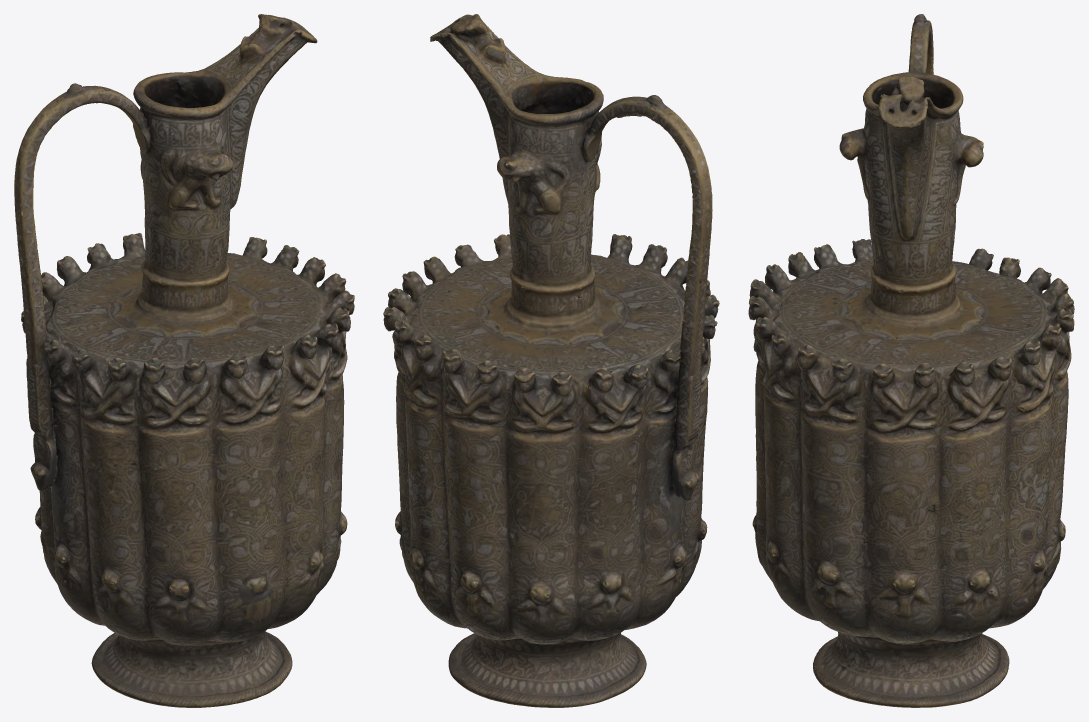
Rendered from preview.glb.
3 renders of one model, left to right at view 1: azimuth 30°, elevation 25°; view 2: azimuth 150°, elevation 25°; view 3: azimuth 270°, elevation 25°, orthographic.
Parts seen in each view (by area): view 1: ADVIMG_44_15_Ewer_MASTER_5M_n3d; view 2: ADVIMG_44_15_Ewer_MASTER_5M_n3d; view 3: ADVIMG_44_15_Ewer_MASTER_5M_n3d.
Boxes of the visible parts, left/top/right/bottom form: ADVIMG_44_15_Ewer_MASTER_5M_n3d: left=14, top=14, right=354, bottom=707; ADVIMG_44_15_Ewer_MASTER_5M_n3d: left=383, top=14, right=719, bottom=707; ADVIMG_44_15_Ewer_MASTER_5M_n3d: left=748, top=14, right=1074, bottom=707.
Bounding box in the file's own units: 0.2018 × 0.3985 × 0.1872.
Materials: 1 (1 with a texture image).
